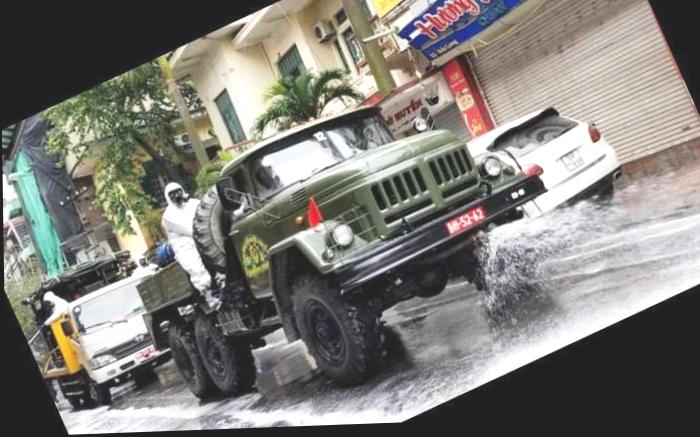License_Plate: (441, 201, 491, 233), (559, 147, 586, 172)
